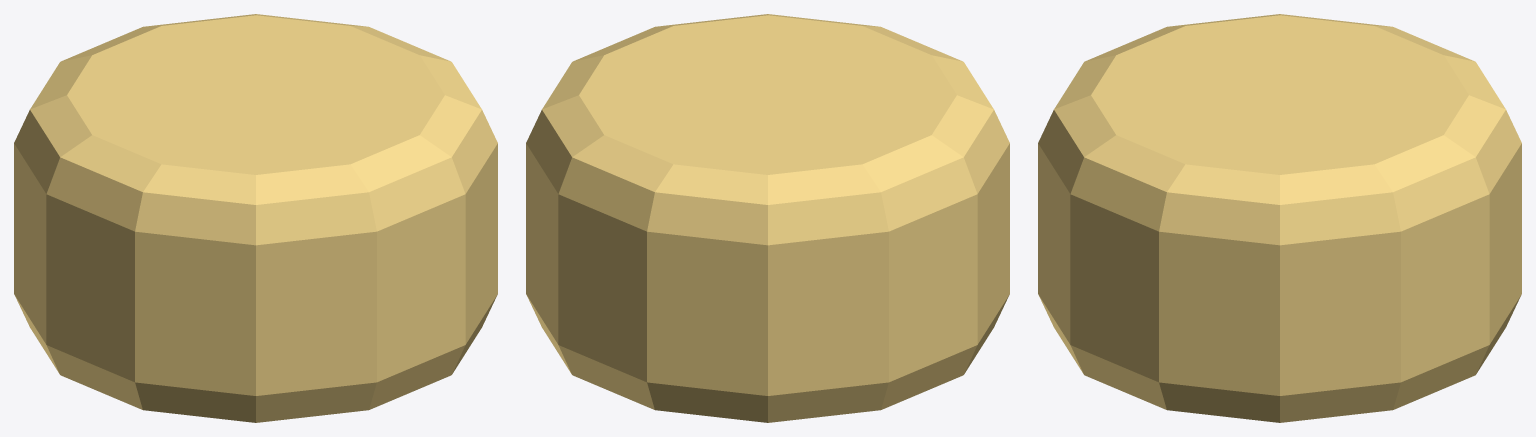
File: cozy-home-interiors-pouffe-f81376e6.glb
3 renders of one model, left to right at view 1: azimuth 30°, elevation 25°; view 2: azimuth 150°, elevation 25°; view 3: azimuth 270°, elevation 25°, orthographic.
Visible parts, largest first — view 1: pouffe; view 2: pouffe; view 3: pouffe.
Boxes of the visible parts, box(x1,y1,x2,y2) form: pouffe: box(14, 14, 497, 422); pouffe: box(526, 14, 1009, 422); pouffe: box(1038, 14, 1521, 422).
Bounding box in the file's own units: 0.64 × 0.36 × 0.64.
